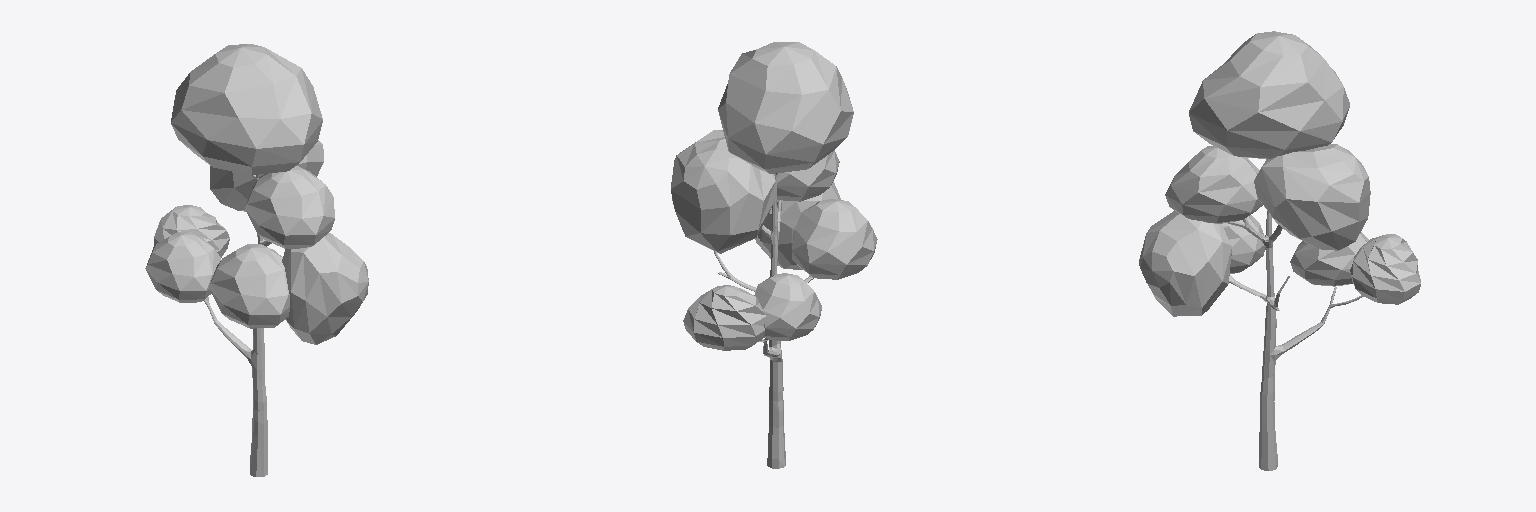
The model's file is Tree1.obj.
The picture shows the model from 3 angles: view 1: azimuth 30°, elevation 25°; view 2: azimuth 150°, elevation 25°; view 3: azimuth 270°, elevation 25°; orthographic projection.
Parts seen in each view (by area): view 1: Cube.031; view 2: Cube.031; view 3: Cube.031.
Boxes of the visible parts, x1,y1,x2,y2 form: Cube.031: [145, 44, 368, 476]; Cube.031: [671, 42, 877, 468]; Cube.031: [1139, 31, 1420, 470].
Size of the model in its own units: 5.58 by 15.11 by 9.11.